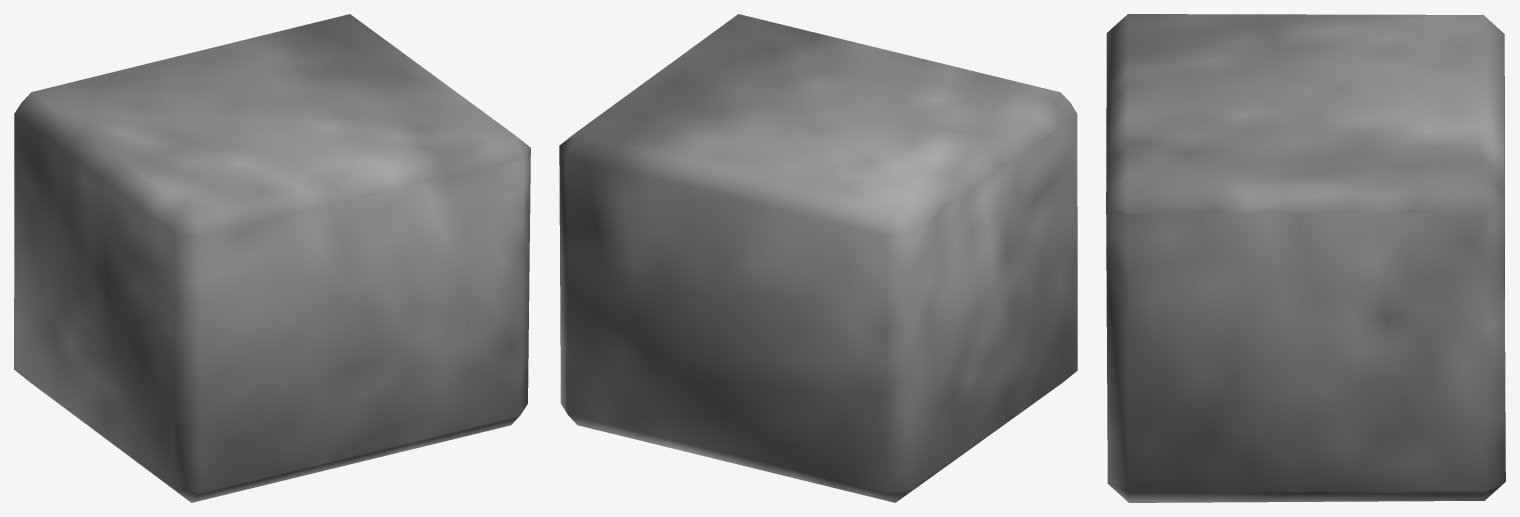
Rendered from Block01.fbx.
The picture shows the model from 3 angles, left to right: view 1: azimuth 30°, elevation 25°; view 2: azimuth 150°, elevation 25°; view 3: azimuth 270°, elevation 25°; orthographic projection. The views are drawn at different scales.
Parts seen in each view (by area): view 1: Block01_LOD0; view 2: Block01_LOD0; view 3: Block01_LOD0.
Boxes of the visible parts, bbox=[...] form: Block01_LOD0: bbox=[14, 14, 530, 502]; Block01_LOD0: bbox=[559, 14, 1077, 502]; Block01_LOD0: bbox=[1106, 14, 1505, 502].
Size of what is drawn, in the model's own units: 0.2407 by 0.1891 by 0.2145.
